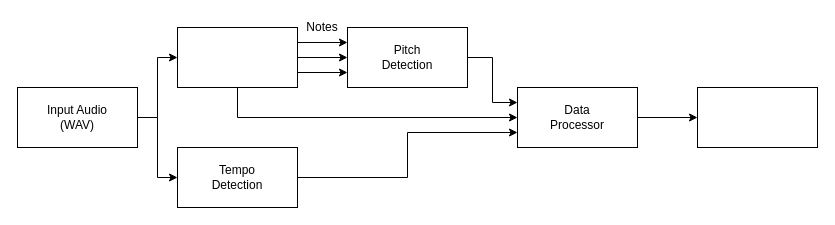
This 835x225 diagram has some shape labels left out. The centre of each missing label's shape, as x and y in pixels:
Onset/Offset Detection: point 237,57
Output Audio (MIDI): point 757,117
